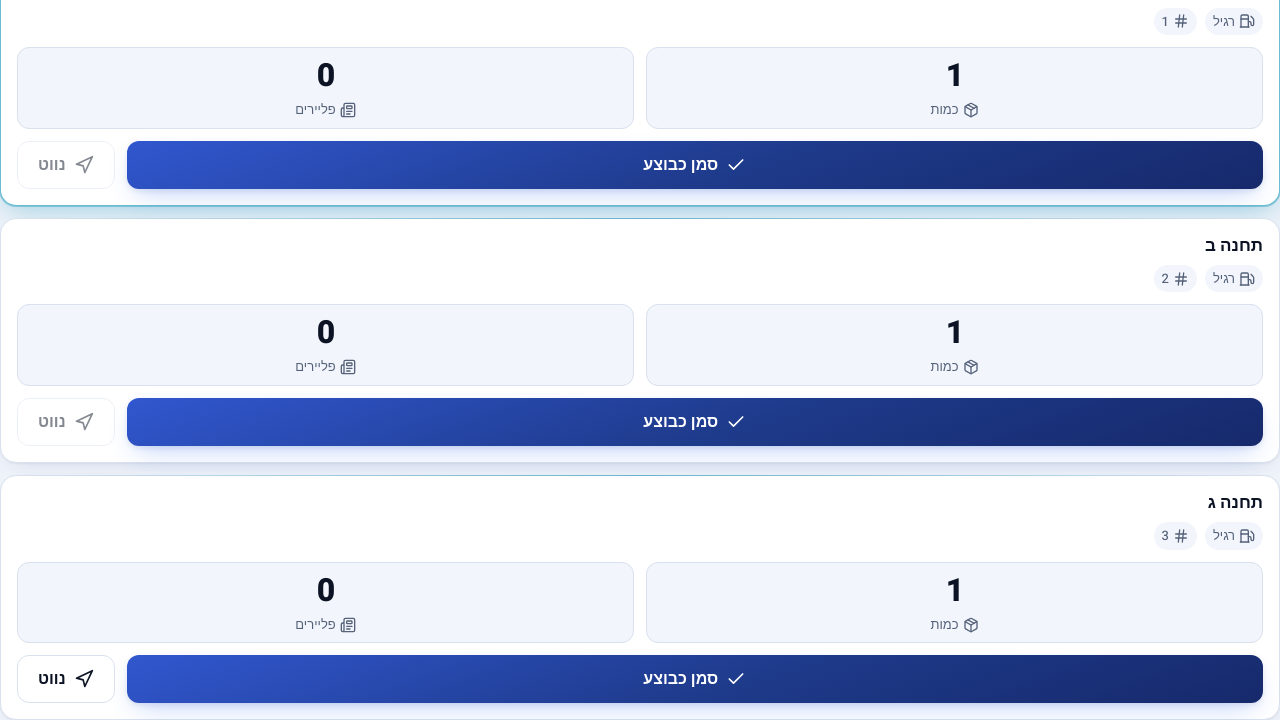
Scenario: AreaPage distance-from-station warning › shows the prominent far warning when the worker is far from the station
(page scrolled)
// station-c sits ~5.5km from the captured fix — well past the 100m threshold.
What coordinates should you click on to do the following:
click the button "סמן כבוצע" below "תחנה ג"
I would click on:
 (695, 679)
Its box is [127, 655, 1263, 703].
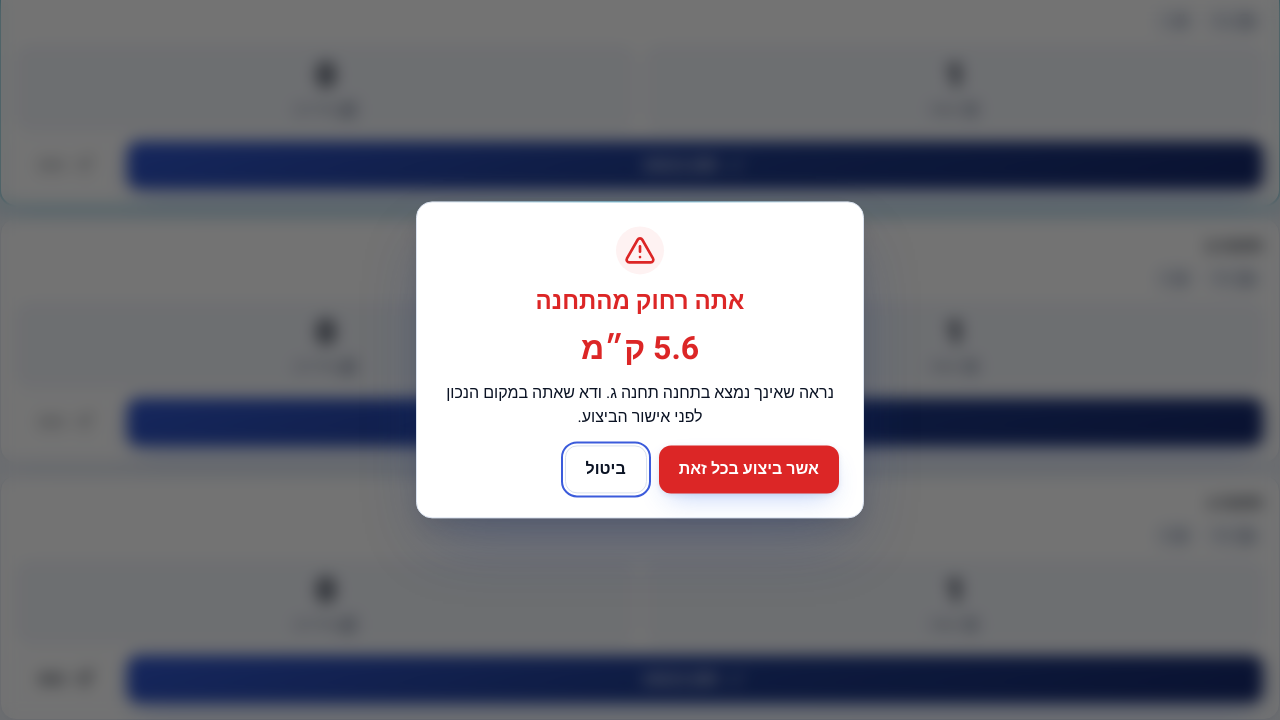
Check: the heading "אתה רחוק מהתחנה" is shown, box [536, 286, 744, 318]
Check: the text "5.6 ק״מ" is shown, box [581, 326, 699, 373]
Check: the button "אשר ביצוע בכל זאת" is enabled, box [659, 446, 839, 494]
